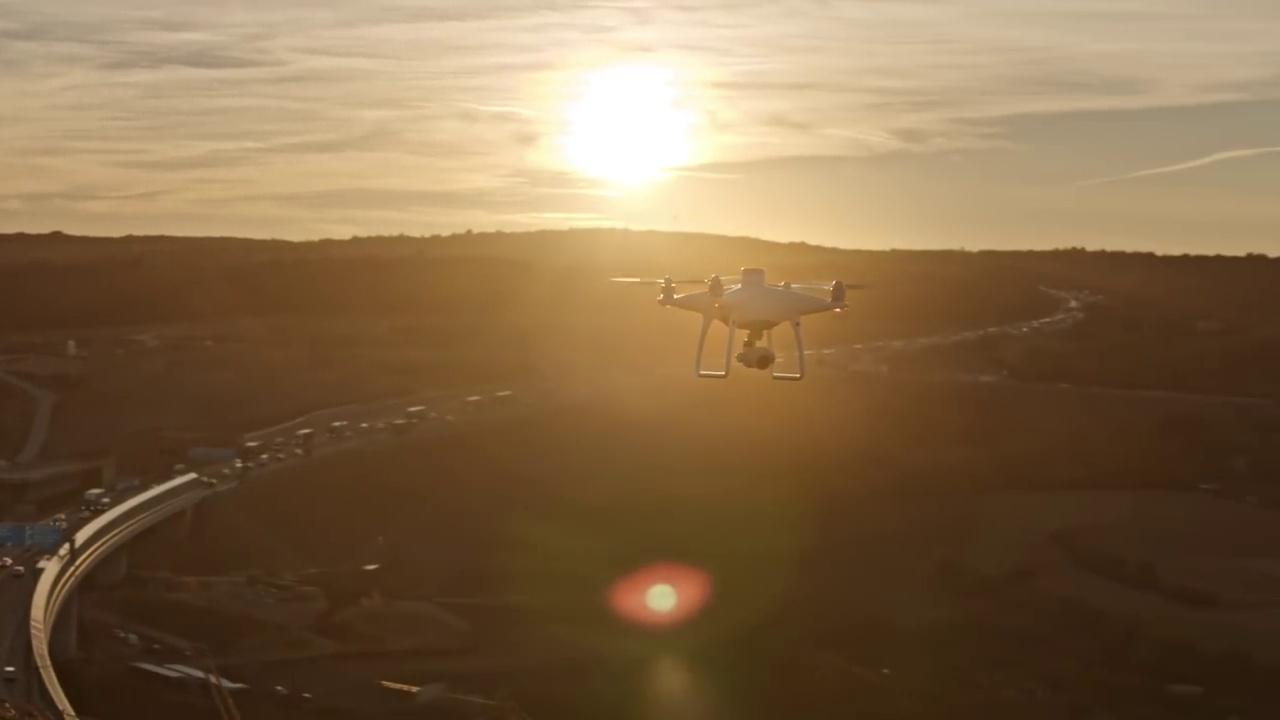drone: (610, 265, 879, 380)
